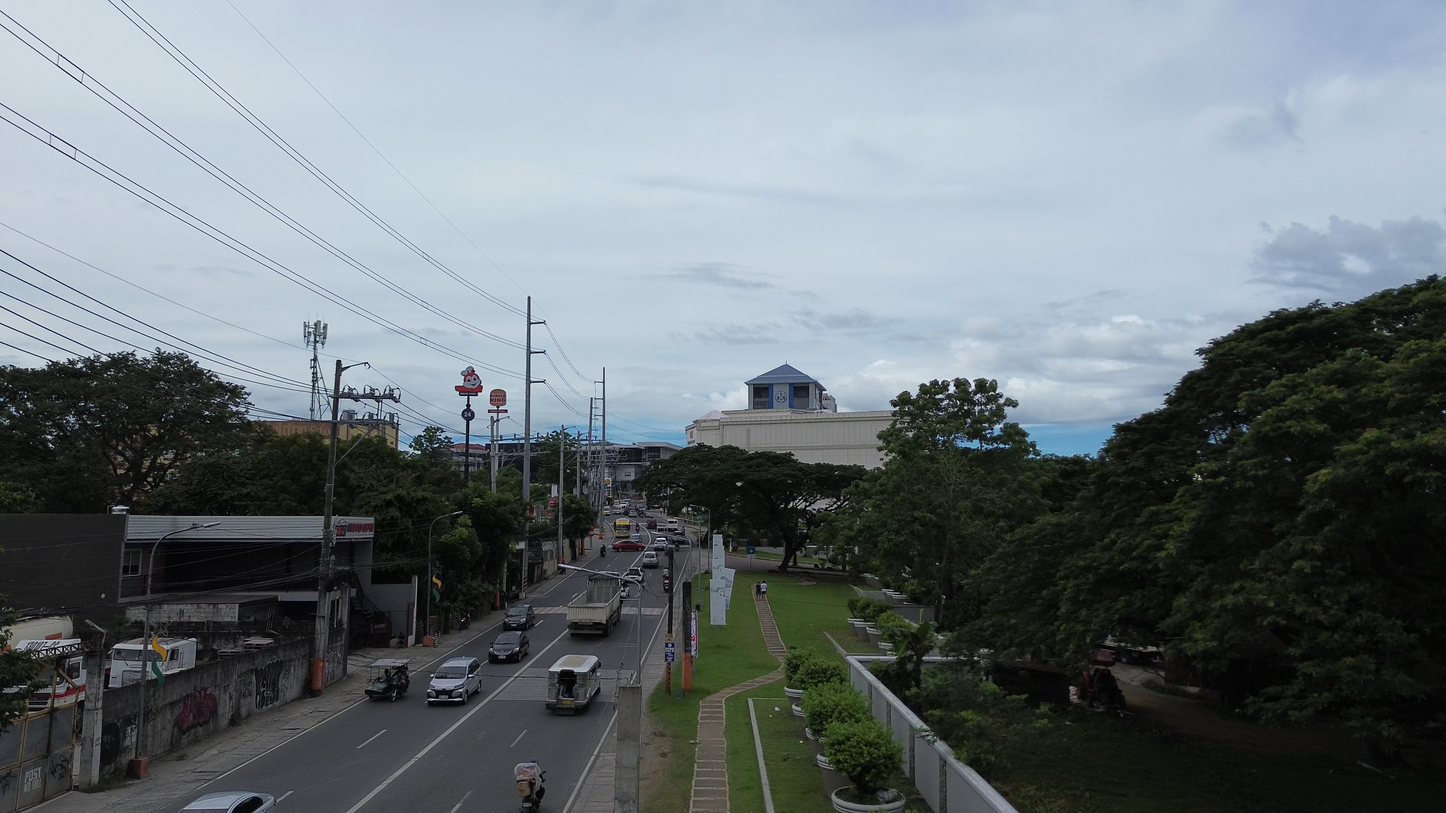bus: (614, 518, 632, 539)
car: (183, 791, 276, 813), (488, 631, 529, 662), (502, 604, 535, 630), (651, 536, 669, 553)
motorcycle: (364, 663, 409, 701)
truck: (567, 574, 622, 636)
vehicle: (13, 638, 87, 710), (107, 637, 197, 688), (546, 655, 601, 713), (427, 657, 480, 705), (364, 659, 409, 701), (514, 760, 546, 813), (612, 539, 647, 552), (623, 566, 645, 584), (614, 518, 632, 539), (641, 550, 659, 568), (651, 536, 669, 554), (664, 518, 681, 533), (663, 573, 671, 593), (646, 517, 658, 530)
